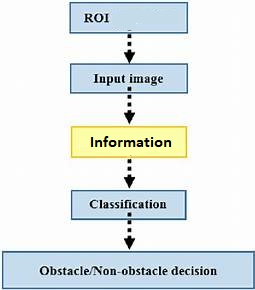arrow: (123, 84, 138, 126), (122, 210, 137, 251), (123, 155, 137, 190), (123, 28, 136, 63)
process: (1, 250, 255, 289), (67, 1, 191, 35), (69, 124, 189, 159), (68, 61, 190, 95), (70, 188, 189, 221)
text: (38, 263, 218, 276), (88, 134, 173, 149), (92, 72, 166, 86), (88, 198, 169, 210), (82, 12, 111, 24)
